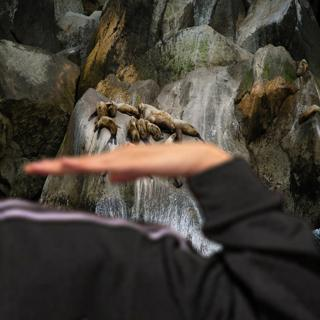Wait: (17, 133, 230, 192)
